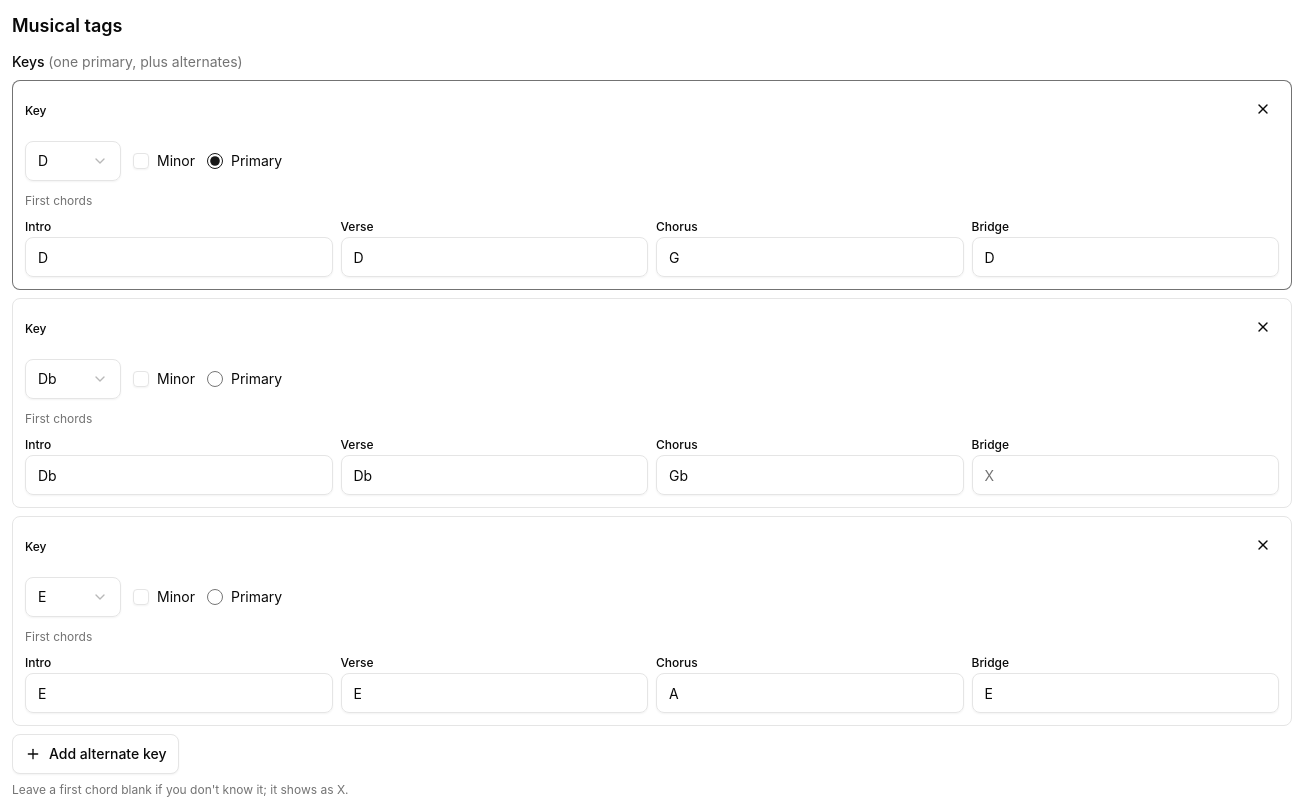
MusicalSection › edits chords, clears them to null and validates on blur
This screenshot has width=1292, height=807.
Type "D b/F" into the field named "Bridge first chord in D flat" at (1125, 475), box [972,455,1279,495]
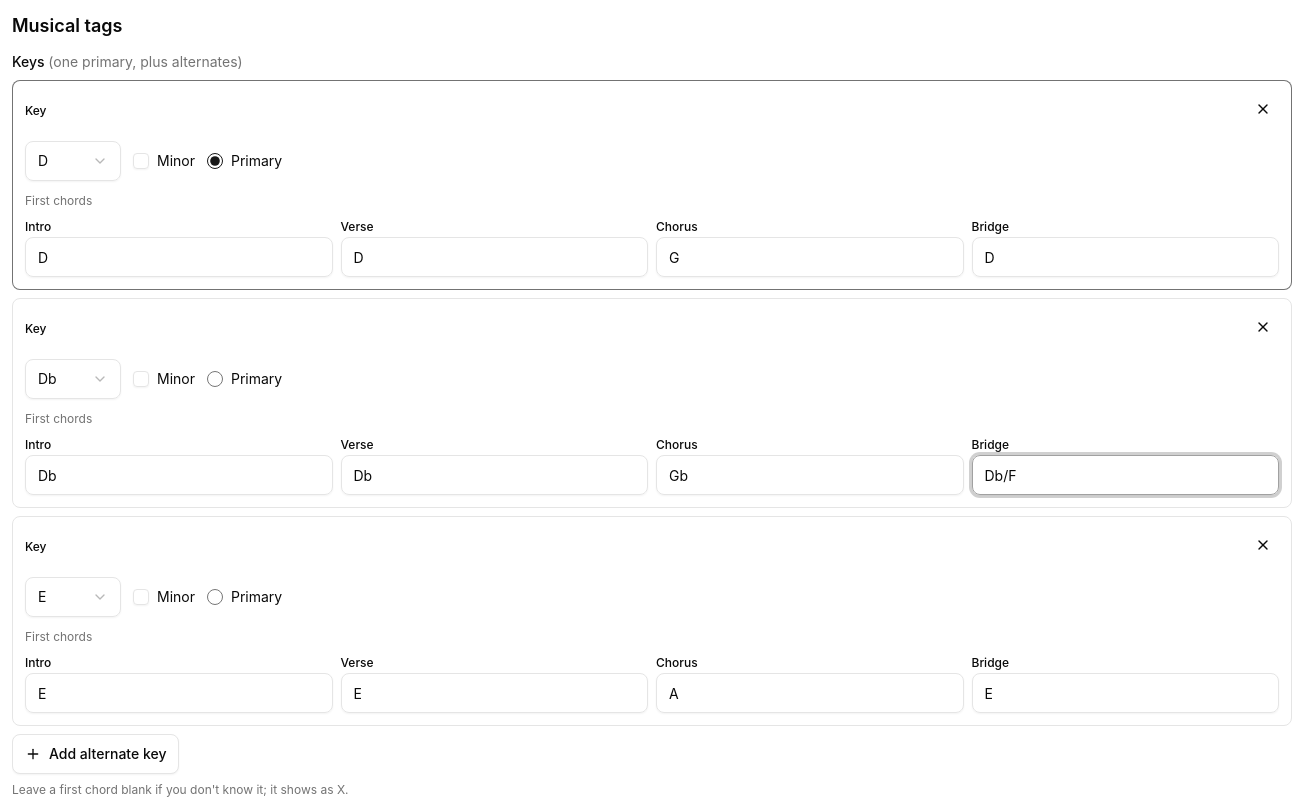
Replace the text in the field named "Bridge first chord in D flat" with "Q" at (1125, 475), box [972,455,1279,495]
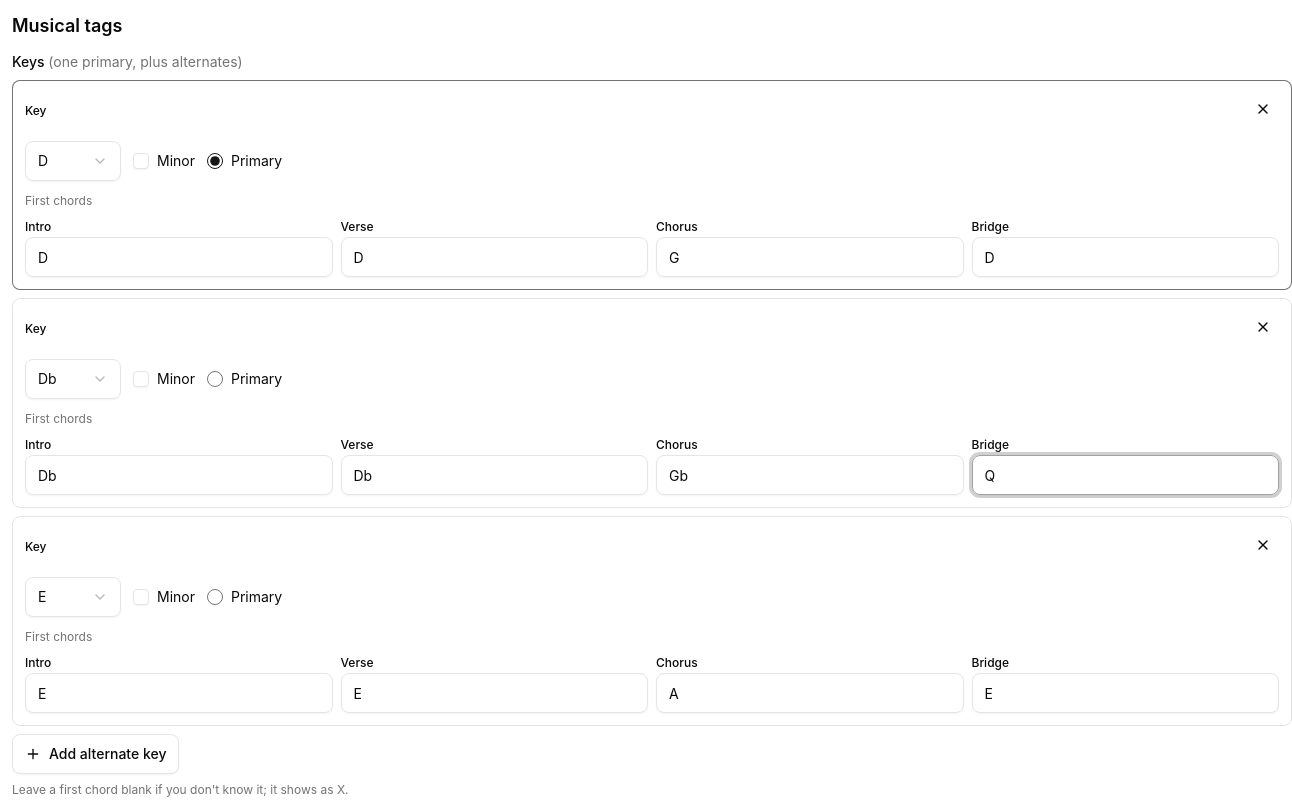
Expected: the text "Use a chord like G, Bm7 or D/F#" is not shown
Press Tab
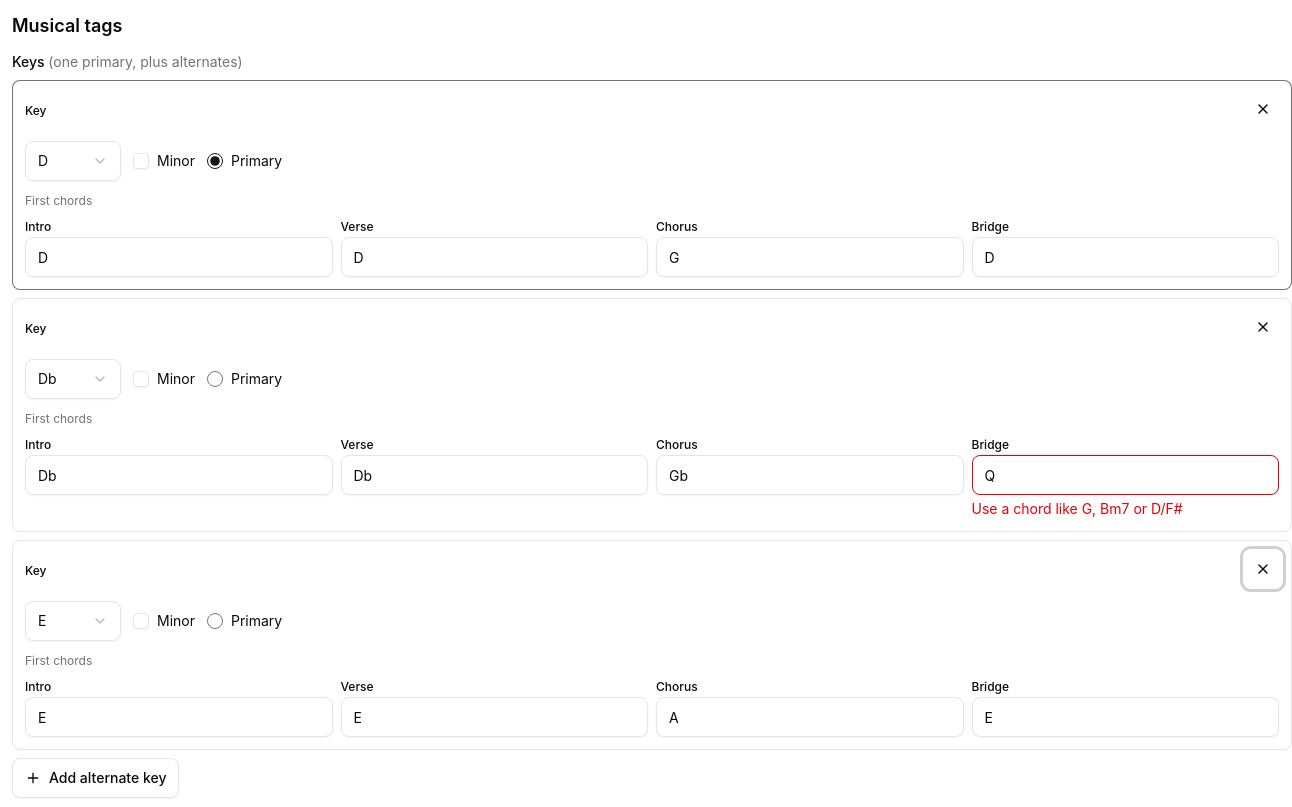
Expected: the list item "Use a chord like G, Bm7 or D/F#" is shown, [972,500,1183,517]
